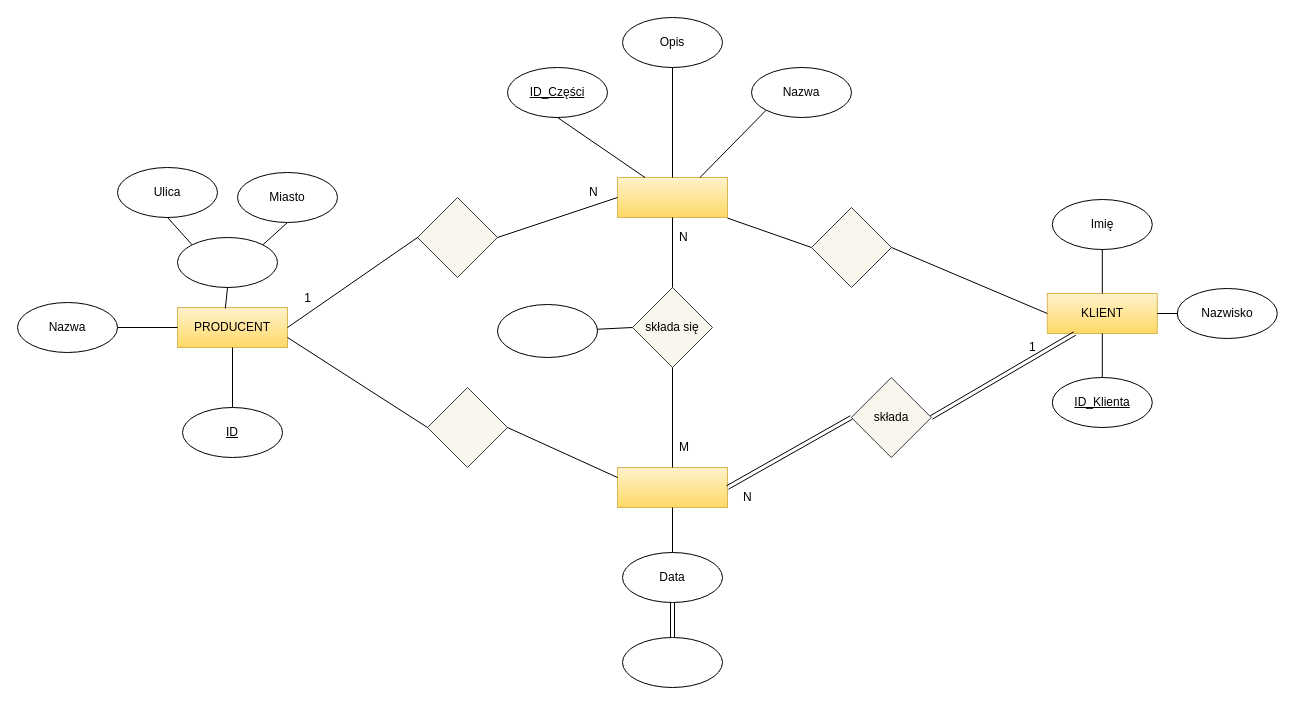
The diagram is 1295 pixels wide and 705 high, and some of its shapes have lost their labels. The shapes that lost their labels are listed below. From the top down, each one's box as (x1, y1, x2, y2) in pixels, then its label:
(616, 176, 728, 218): CZĘŚĆ
(416, 196, 498, 278): produkuje
(810, 206, 892, 288): wybiera
(176, 236, 278, 288): Adres
(496, 304, 598, 358): LiczbaSztuk
(426, 386, 508, 468): realizuje
(616, 466, 728, 508): ZAMÓWIENIE
(622, 636, 722, 688): Nr_Zamówienia
